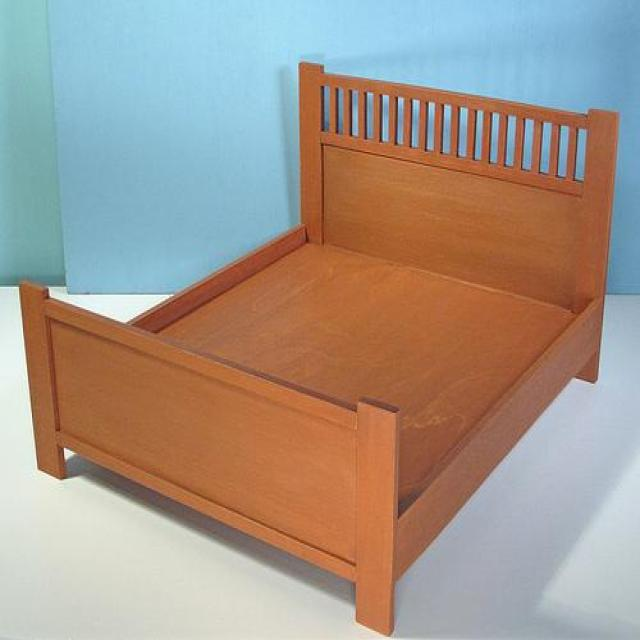bed: (15, 59, 623, 635)
